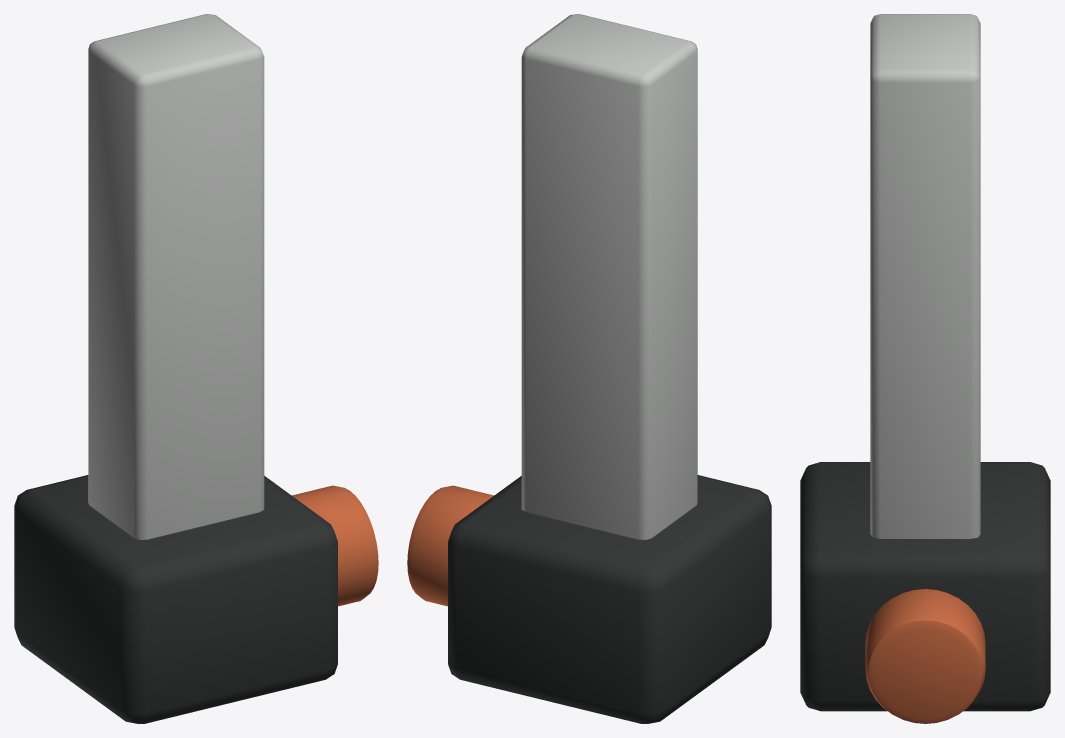
Rendered from welding_carriage_cross_slide.glb.
The picture shows the model from 3 angles, left to right: view 1: azimuth 30°, elevation 25°; view 2: azimuth 150°, elevation 25°; view 3: azimuth 270°, elevation 25°; orthographic projection.
Parts seen in each view (by area): view 1: welding_carriage_cross_slide; view 2: welding_carriage_cross_slide; view 3: welding_carriage_cross_slide.
Boxes of the visible parts, box(x1,y1,x2,y2) form: welding_carriage_cross_slide: box(14, 14, 378, 723); welding_carriage_cross_slide: box(407, 14, 771, 723); welding_carriage_cross_slide: box(800, 14, 1050, 723).
Size of the model in its own units: 0.066 by 0.1375 by 0.05.
